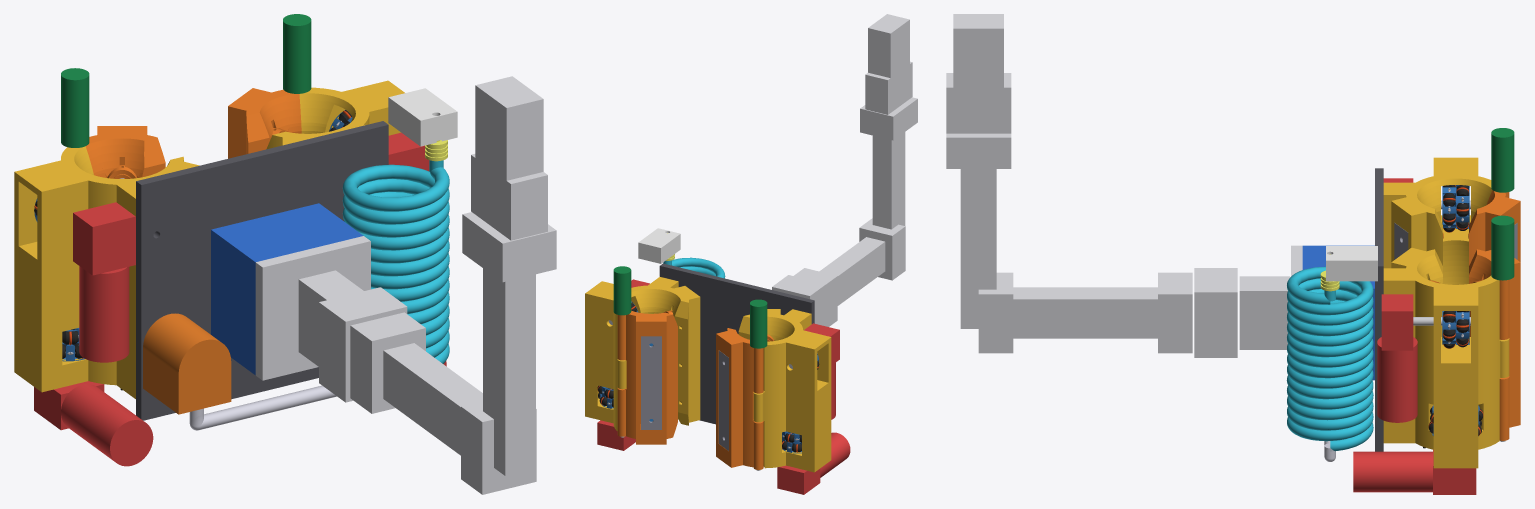
File: sample-coil-v1.glb
3 views of the same model, side by side, from view 1: azimuth 30°, elevation 25°; view 2: azimuth 150°, elevation 25°; view 3: azimuth 270°, elevation 25° (orthographic). The views are drawn at different scales.
Visible parts, largest first — view 1: cart_so101_arm_envelope, cart_base_plate, cart_hand_on_pipe_B_sleeve, sampler_pu_coil, cart_battery, sampler_pump, cart_hand_on_pipe_B_roll_motor, cart_hand_on_pipe_B_drive_motor, cart_hand_on_pipe_C_sleeve, cart_hand_on_pipe_B_drive_gearbox, cart_hand_on_pipe_C_jaw, cart_hand_on_pipe_B_jaw (+6 smaller); view 2: cart_so101_arm_envelope, cart_hand_on_pipe_B_sleeve, cart_hand_on_pipe_C_sleeve, cart_base_plate, cart_hand_on_pipe_C_jaw, cart_hand_on_pipe_B_jaw, cart_hand_on_pipe_C_p60_cap, sampler_parking_socket, cart_hand_on_pipe_B_p60_cap, cart_hand_on_pipe_B_roll_gearbox, cart_hand_on_pipe_C_roll_gearbox, cart_hand_on_pipe_C_jaw_motor (+4 smaller); view 3: cart_so101_arm_envelope, cart_hand_on_pipe_C_sleeve, sampler_pu_coil, cart_hand_on_pipe_B_sleeve, cart_hand_on_pipe_C_jaw, cart_hand_on_pipe_C_roll_motor, cart_hand_on_pipe_C_drive_motor, cart_hand_on_pipe_B_jaw, cart_base_plate, cart_hand_on_pipe_C_drive_gearbox, sampler_parking_socket, cart_hand_on_pipe_C_roll_gearbox (+4 smaller).
Part boxes in pixels (x1,y1,x2,y2): cart_so101_arm_envelope: [255, 76, 556, 494]; cart_base_plate: [136, 121, 388, 420]; cart_hand_on_pipe_B_sleeve: [14, 146, 199, 398]; sampler_pu_coil: [342, 164, 449, 363]; cart_battery: [211, 203, 363, 375]; sampler_pump: [143, 313, 231, 414]; cart_hand_on_pipe_B_roll_motor: [61, 384, 153, 466]; cart_hand_on_pipe_B_drive_motor: [79, 266, 129, 362]; cart_hand_on_pipe_C_sleeve: [266, 80, 404, 149]; cart_hand_on_pipe_B_drive_gearbox: [73, 202, 135, 275]; cart_hand_on_pipe_C_jaw: [228, 88, 301, 158]; cart_hand_on_pipe_B_jaw: [85, 126, 165, 177]; cart_so101_arm_envelope: [772, 14, 917, 326]; cart_hand_on_pipe_B_sleeve: [738, 309, 831, 472]; cart_hand_on_pipe_C_sleeve: [585, 277, 700, 430]; cart_base_plate: [659, 263, 814, 424]; cart_hand_on_pipe_C_jaw: [617, 310, 677, 444]; cart_hand_on_pipe_B_jaw: [716, 328, 763, 469]; cart_hand_on_pipe_C_p60_cap: [641, 336, 661, 429]; sampler_parking_socket: [638, 228, 680, 263]; cart_hand_on_pipe_B_p60_cap: [718, 350, 728, 450]; cart_hand_on_pipe_B_roll_gearbox: [777, 465, 820, 494]; cart_hand_on_pipe_C_roll_gearbox: [597, 420, 635, 450]; cart_hand_on_pipe_C_jaw_motor: [613, 266, 631, 303]; cart_so101_arm_envelope: [946, 14, 1302, 357]; cart_hand_on_pipe_C_sleeve: [1383, 247, 1509, 468]; sampler_pu_coil: [1286, 266, 1373, 451]; cart_hand_on_pipe_B_sleeve: [1383, 157, 1492, 284]; cart_hand_on_pipe_C_jaw: [1469, 249, 1520, 440]; cart_hand_on_pipe_C_roll_motor: [1353, 451, 1432, 492]; cart_hand_on_pipe_C_drive_motor: [1377, 337, 1417, 422]; cart_hand_on_pipe_B_jaw: [1469, 190, 1520, 265]; cart_base_plate: [1375, 168, 1383, 451]; cart_hand_on_pipe_C_drive_gearbox: [1381, 294, 1413, 350]; sampler_parking_socket: [1326, 246, 1377, 281]; cart_hand_on_pipe_C_roll_gearbox: [1433, 449, 1476, 494].
Size of the model in its own units: 242 by 314 by 397.
